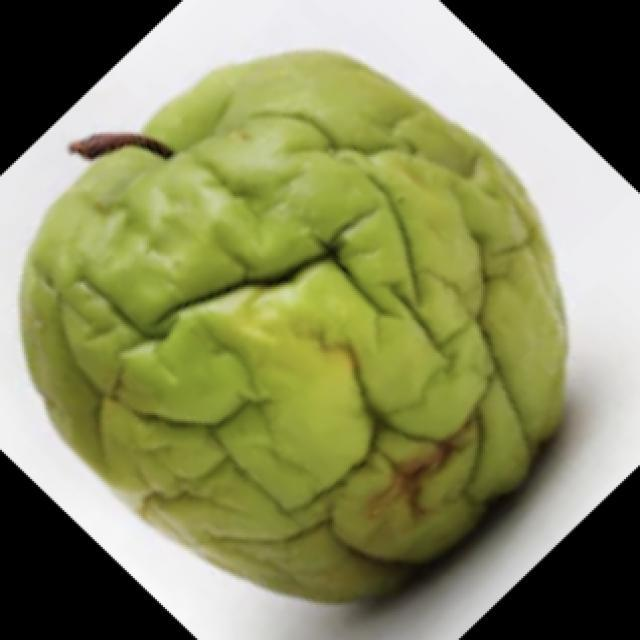Rotten: (40, 45, 580, 592)
